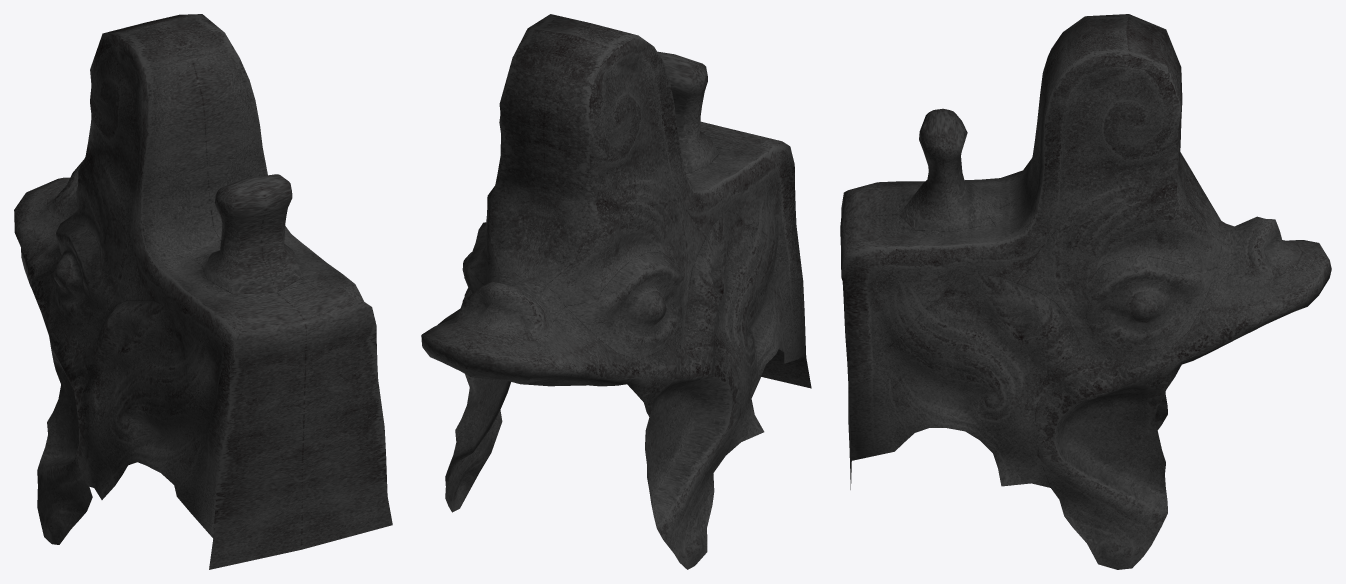
The model's file is SM_RoofOrnament05A.fbx.
3 renders of one model, left to right at view 1: azimuth 30°, elevation 25°; view 2: azimuth 150°, elevation 25°; view 3: azimuth 270°, elevation 25°, orthographic. The views are drawn at different scales.
Visible parts, largest first — view 1: SM_RoofOrnament05A; view 2: SM_RoofOrnament05A; view 3: SM_RoofOrnament05A.
Part boxes in pixels (box(x1,y1,x2,y2)): SM_RoofOrnament05A: box(14, 14, 392, 569); SM_RoofOrnament05A: box(421, 14, 811, 569); SM_RoofOrnament05A: box(840, 14, 1331, 569).
Bounding box in the file's own units: 56.17 × 98.95 × 107.
Materials: 1 (1 with a texture image).
